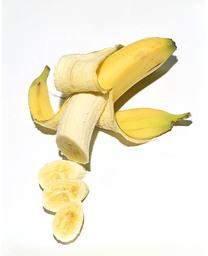banana: (28, 34, 195, 242)
